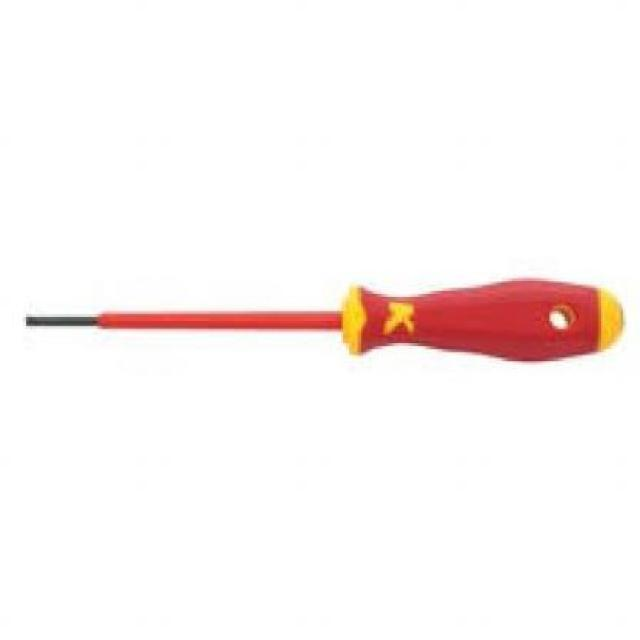screwdriver: (26, 276, 634, 361)
